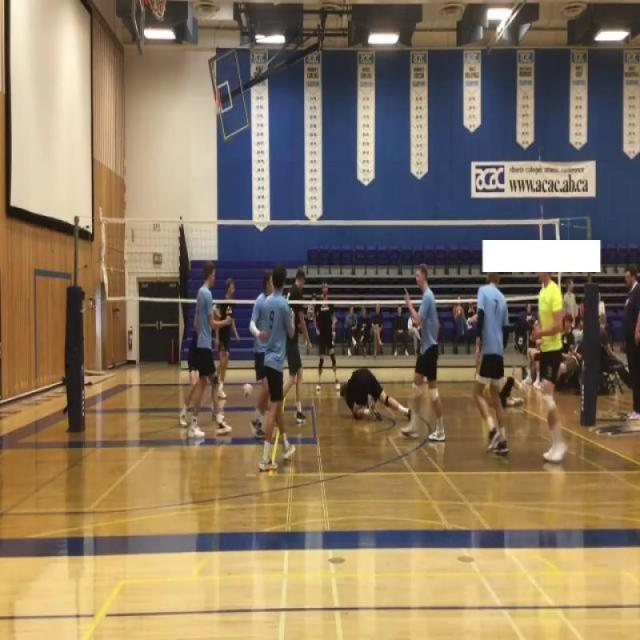volleyball: (242, 383, 254, 400)
